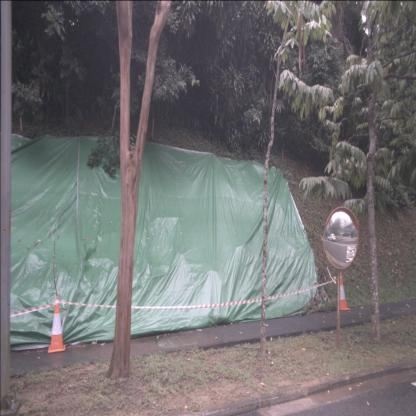movable_object-trafficcone: (45, 292, 67, 352), (334, 255, 350, 312)
vehicle-car: (328, 234, 336, 242)
